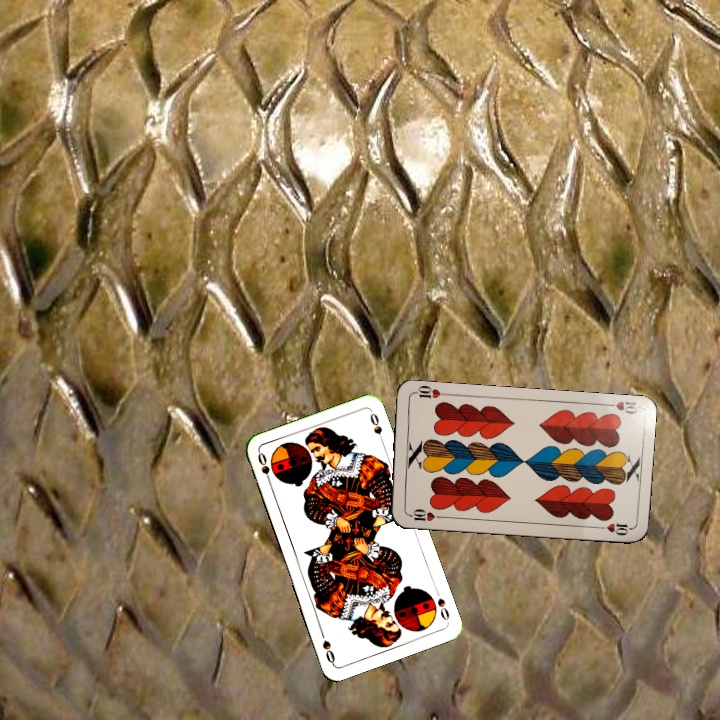H10: (600, 397, 640, 417), (404, 505, 444, 524)
SO: (254, 448, 274, 488), (433, 594, 452, 625)
